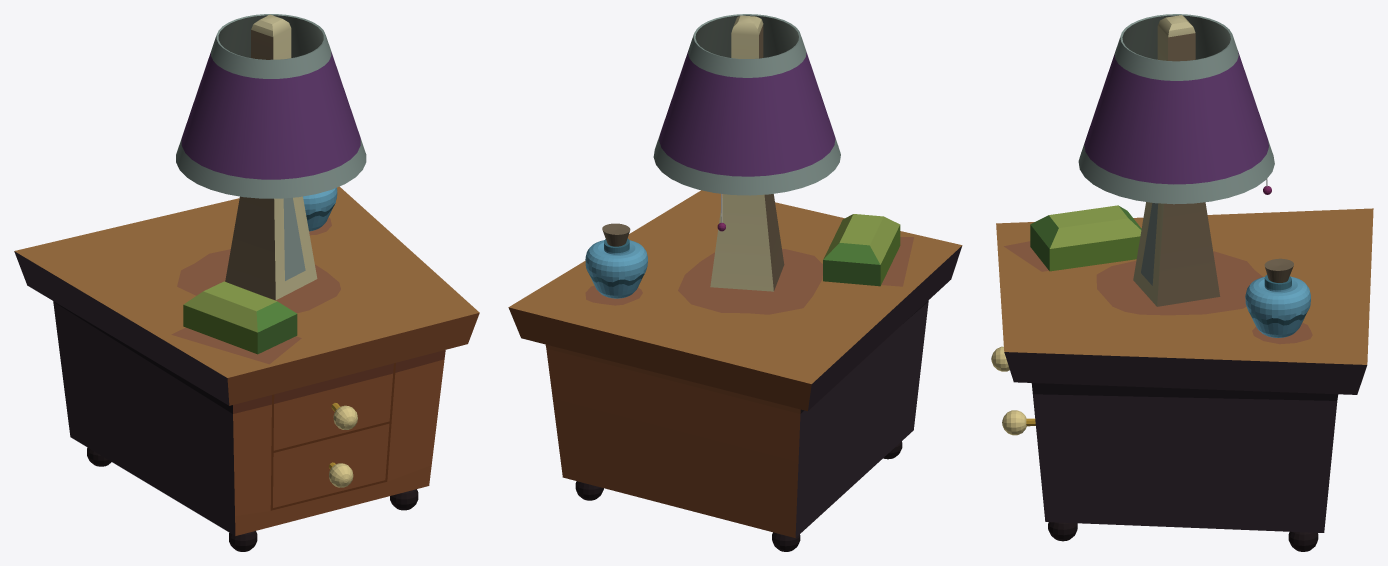
File: bedside-table.glb
The picture shows the model from 3 angles, left to right: view 1: azimuth 30°, elevation 25°; view 2: azimuth 150°, elevation 25°; view 3: azimuth 270°, elevation 25°; orthographic projection. The views are drawn at different scales.
Visible parts, largest first — view 1: Cube.001, Circle.001, Cube.010, Sphere; view 2: Cube.001, Circle.001, Cube.010, Sphere; view 3: Cube.001, Circle.001, Cube.010, Sphere.
Part boxes in pixels (box(x1,y1,x2,y2)): Cube.001: box(14, 186, 479, 551); Circle.001: box(176, 14, 366, 300); Cube.010: box(183, 281, 297, 354); Sphere: box(303, 187, 337, 231); Cube.001: box(508, 190, 962, 551); Circle.001: box(653, 14, 840, 291); Cube.010: box(823, 214, 900, 286); Sphere: box(585, 223, 647, 298); Cube.001: box(991, 208, 1373, 551); Circle.001: box(1078, 14, 1274, 306); Cube.010: box(1030, 205, 1141, 271); Sphere: box(1245, 258, 1310, 337).
Bounding box in the file's own units: 1.66 × 2.39 × 1.71.
